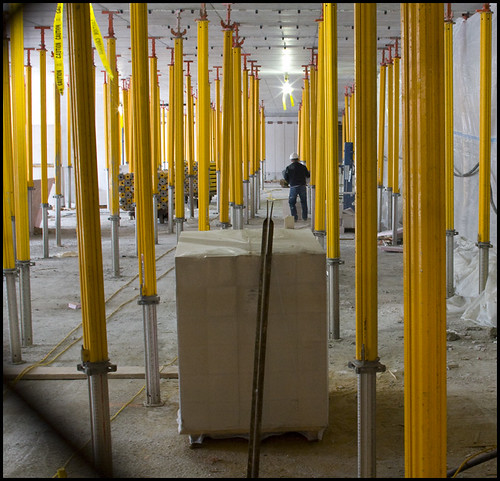person hardhat: (282, 154, 310, 223)
